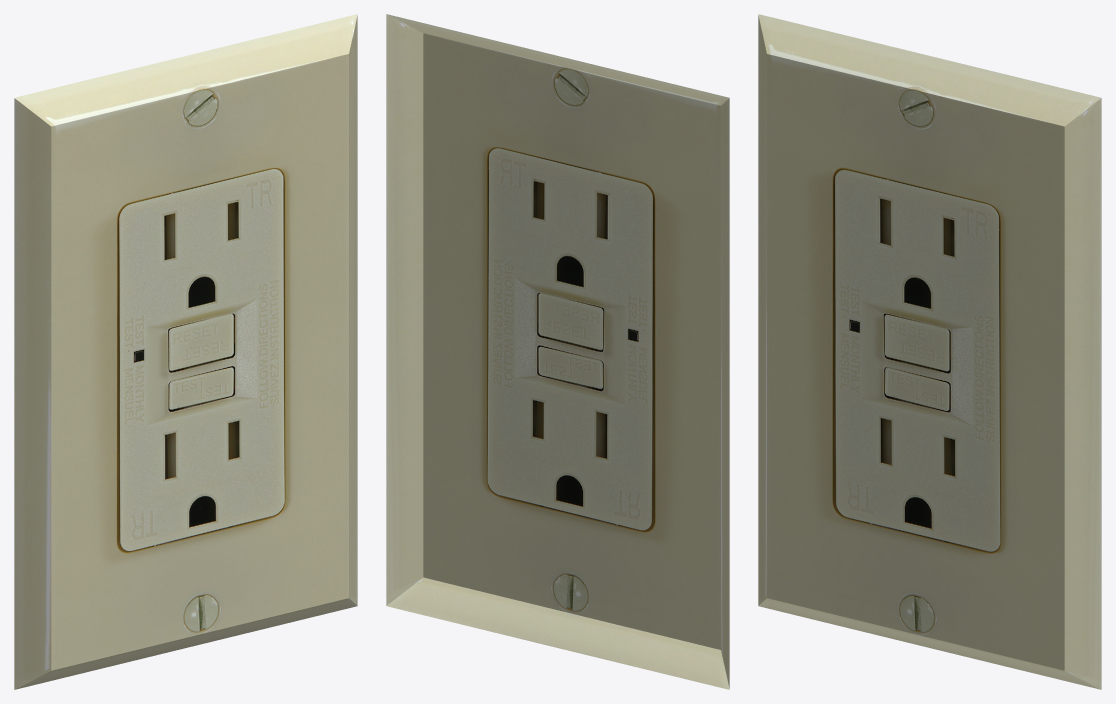
File: Electric_Socket.FBX
3 views of the same model, side by side, from view 1: azimuth 30°, elevation 25°; view 2: azimuth 150°, elevation 25°; view 3: azimuth 330°, elevation 25° (orthographic).
Parts seen in each view (by area): view 1: SM_Electric_Socket_00; view 2: SM_Electric_Socket_00; view 3: SM_Electric_Socket_00.
Part boxes in pixels (bbox=[...]): SM_Electric_Socket_00: bbox=[14, 14, 357, 689]; SM_Electric_Socket_00: bbox=[386, 14, 729, 689]; SM_Electric_Socket_00: bbox=[758, 14, 1101, 689].
Bounding box in the file's own units: 9.1 × 14.99 × 0.6492.
1 material, 1 textured.
